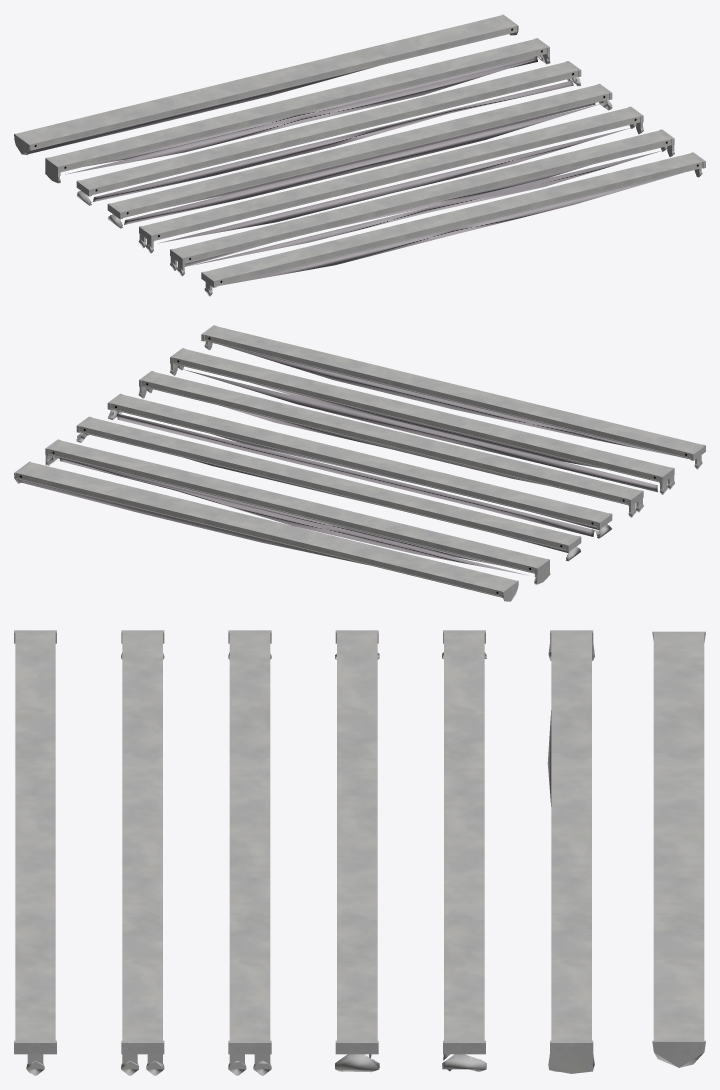
Rendered from mounted_fluorescent_lights.glb.
The picture shows the model from 3 angles, top to bottom: view 1: azimuth 30°, elevation 25°; view 2: azimuth 150°, elevation 25°; view 3: azimuth 270°, elevation 25°; orthographic projection. The views are drawn at different scales.
Visible parts, largest first — view 1: mounted_fluorescent_lights_a; view 2: mounted_fluorescent_lights_a; view 3: mounted_fluorescent_lights_a.
Boxes of the visible parts, x1,y1,x2,y2 form: mounted_fluorescent_lights_a: (14, 14, 705, 296); mounted_fluorescent_lights_a: (14, 325, 705, 601); mounted_fluorescent_lights_a: (14, 630, 705, 1075).
Bounding box in the file's own units: 0.9122 × 0.0351 × 0.6454.
Materials: 2 (2 with a texture image).
